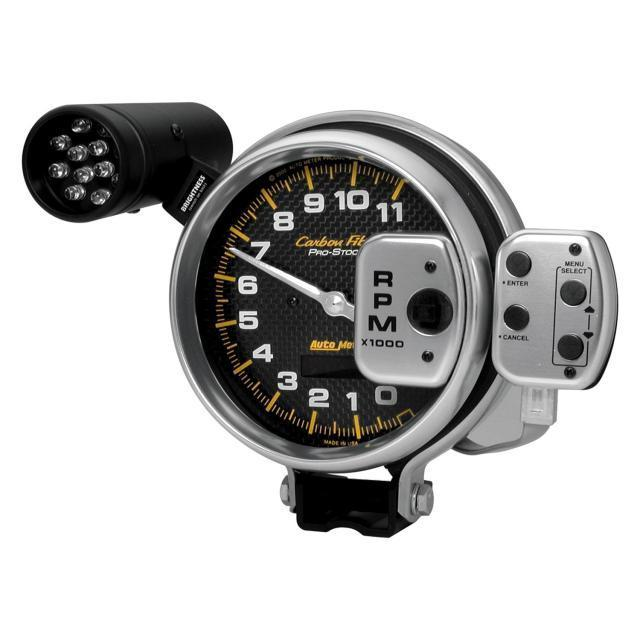Needle_Tip: (207, 238, 260, 277)
Needle_base: (295, 283, 367, 326)
max_value: (372, 192, 411, 237)
min_value: (354, 372, 408, 419)
